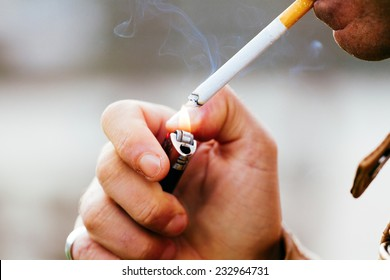cigarette: (185, 0, 316, 111)
